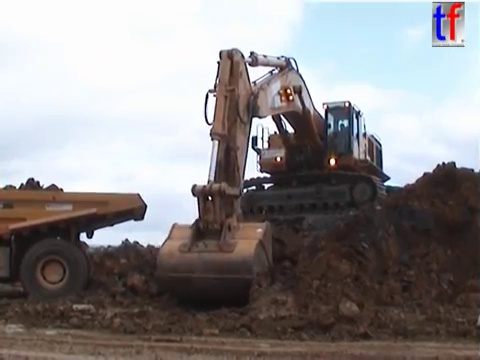excavator: (151, 43, 397, 314)
truck: (1, 184, 151, 309)
